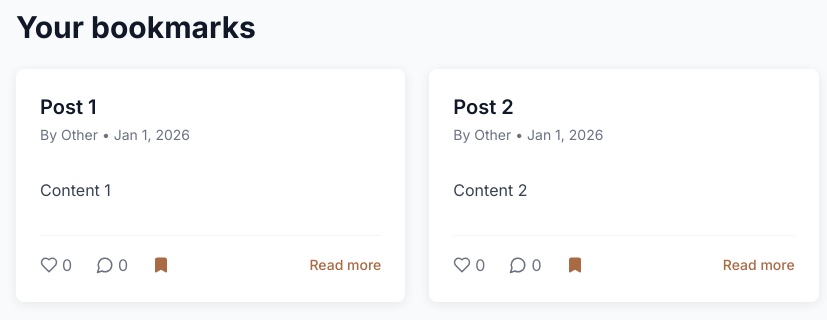
Test case: bookmarks › Bookmarks page lists posts and removes one when un-bookmarked
The image size is (827, 320).
Expected: the heading "Post 1" is shown, 40,95 -> 96,119
What coordinates should you click on to do the following:
click the button named "Remove bookmark" below "Content 1"
I would click on:
 (161, 265)
Its box is 152,256 -> 170,274.
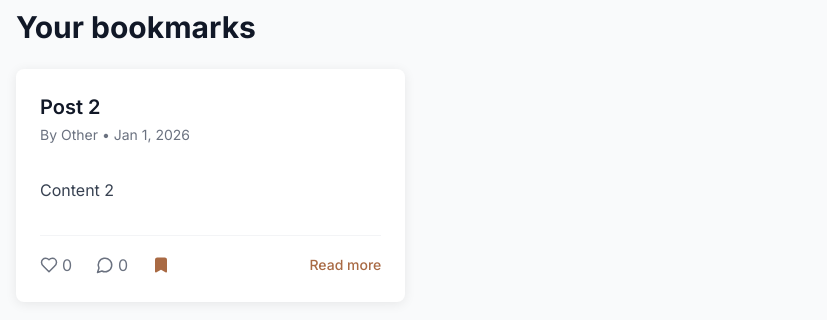
Expected: the heading "Post 2" is shown, 40,95 -> 100,119
Expected: the link "Post 1" is gone
